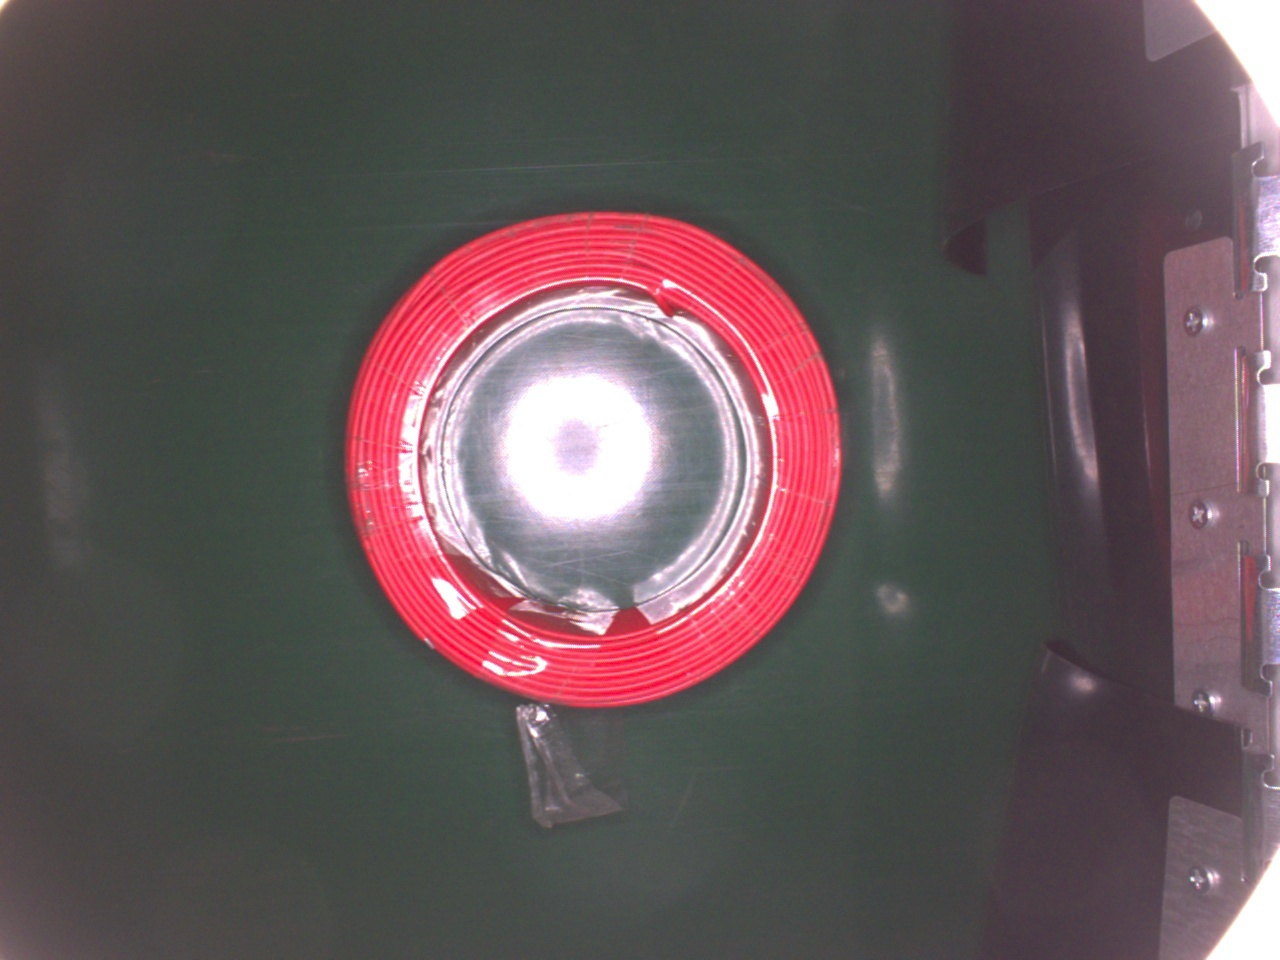red: (345, 207, 847, 707)
